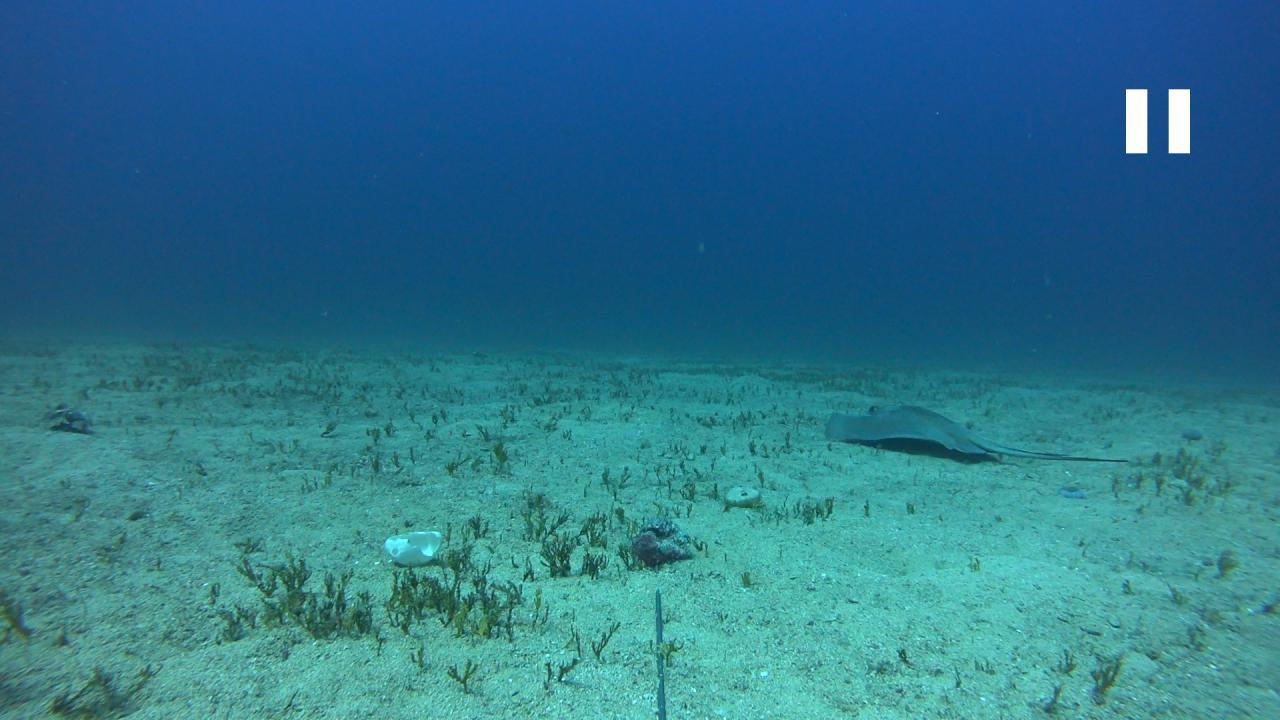dasyatis: (821, 405, 1125, 461)
